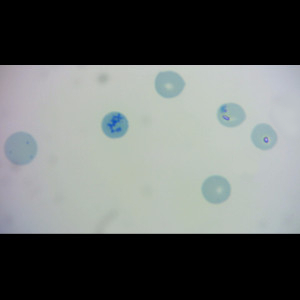aggregate reticulocyte: (100, 111, 130, 140)
erythrocyte: (200, 175, 232, 205), (154, 70, 187, 99), (249, 122, 280, 151), (215, 102, 248, 128)
punctate reticulocyte: (3, 131, 39, 167)
